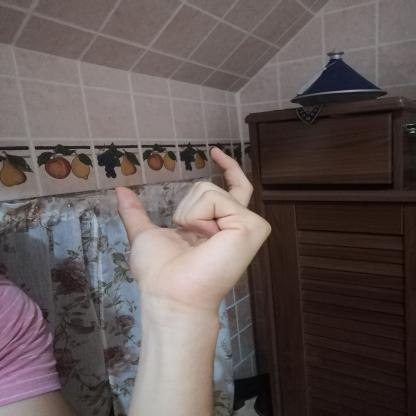NOON: (100, 136, 287, 319)
